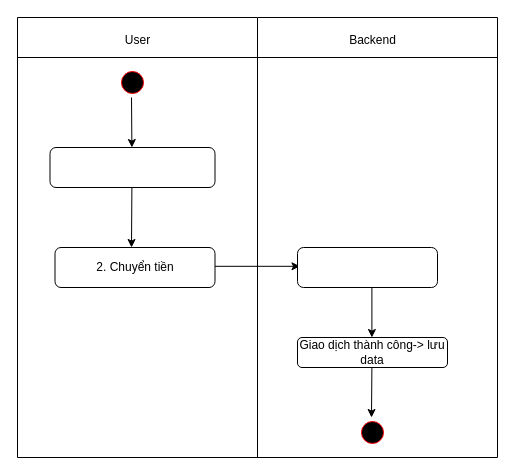
Some shapes in this 516 by 476 pixel diagram are drawn without their labels. The shapes that lost their labels are listed below. From the top down, each one's centre as x and y in pixels, then its label:
At [132,167]: "1.Tạo ví/ liên kết tài khoản ngân hàng".
At [367,267]: "3. Xác nhận yêu cầu".
